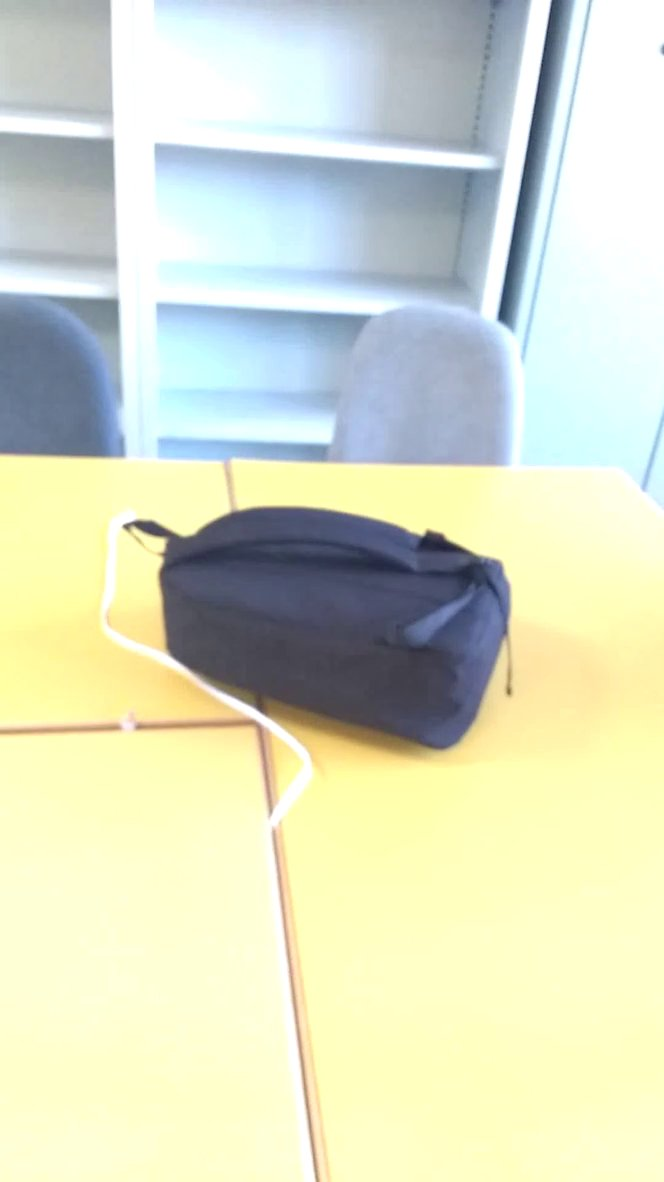bag: (120, 498, 533, 762)
chair: (294, 290, 552, 474)
